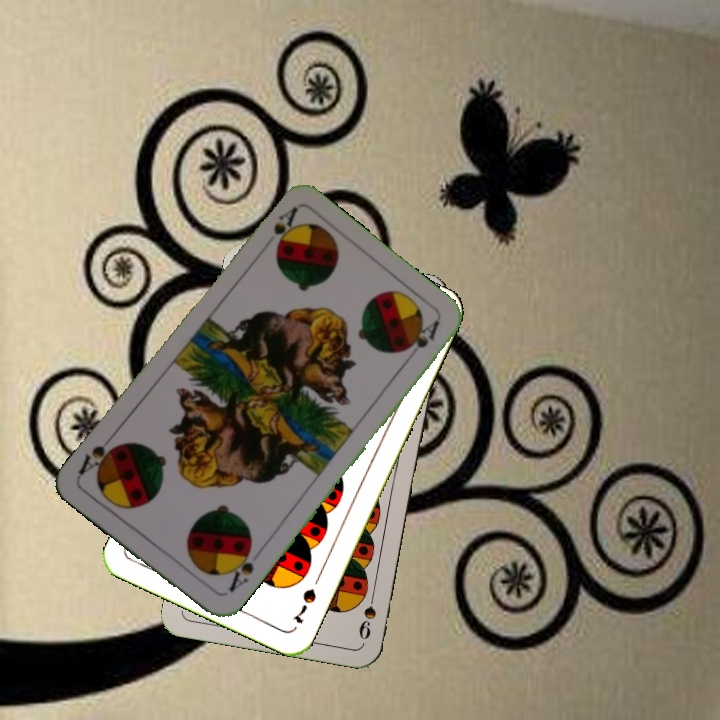S7: (290, 584, 319, 626)
S9: (354, 584, 379, 643)
SA: (223, 541, 257, 595), (269, 203, 300, 255)
